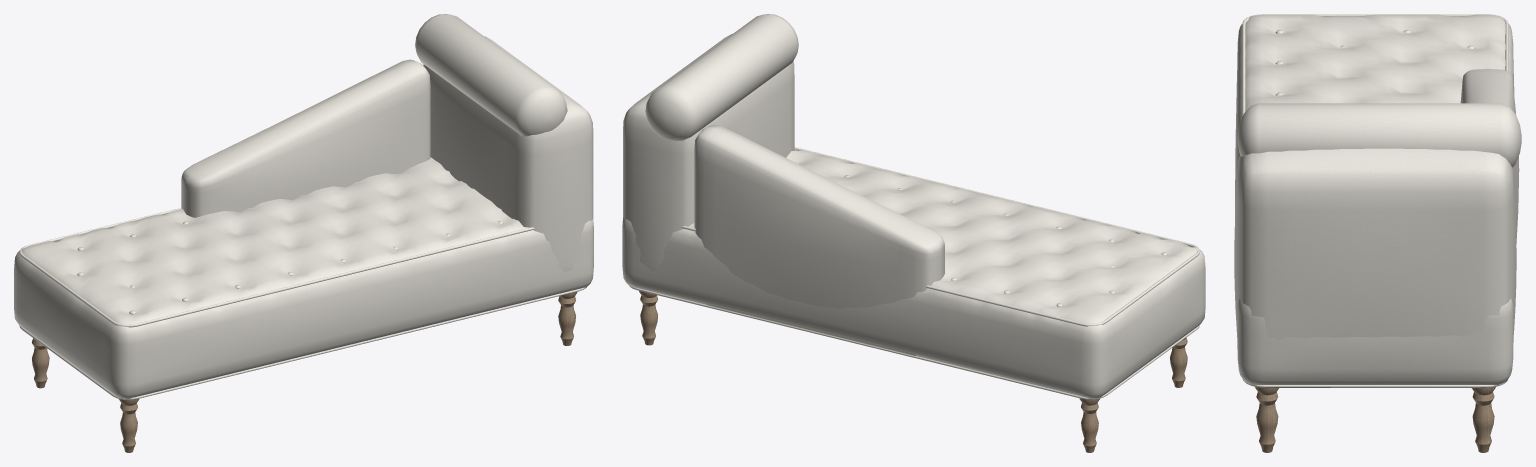
Rendered from chaise_dormitorio_lino.glb.
3 views of the same model, side by side, from view 1: azimuth 30°, elevation 25°; view 2: azimuth 150°, elevation 25°; view 3: azimuth 270°, elevation 25° (orthographic). The views are drawn at different scales.
Visible parts, largest first — view 1: chaise_dormitorio_lino; view 2: chaise_dormitorio_lino; view 3: chaise_dormitorio_lino.
Boxes of the visible parts, left/top/right/bottom form: chaise_dormitorio_lino: left=14, top=14, right=593, bottom=452; chaise_dormitorio_lino: left=622, top=14, right=1205, bottom=452; chaise_dormitorio_lino: left=1234, top=14, right=1521, bottom=452.
Size of the model in its own units: 1.62 by 0.8499 by 0.6781.
2 materials, 2 textured.
